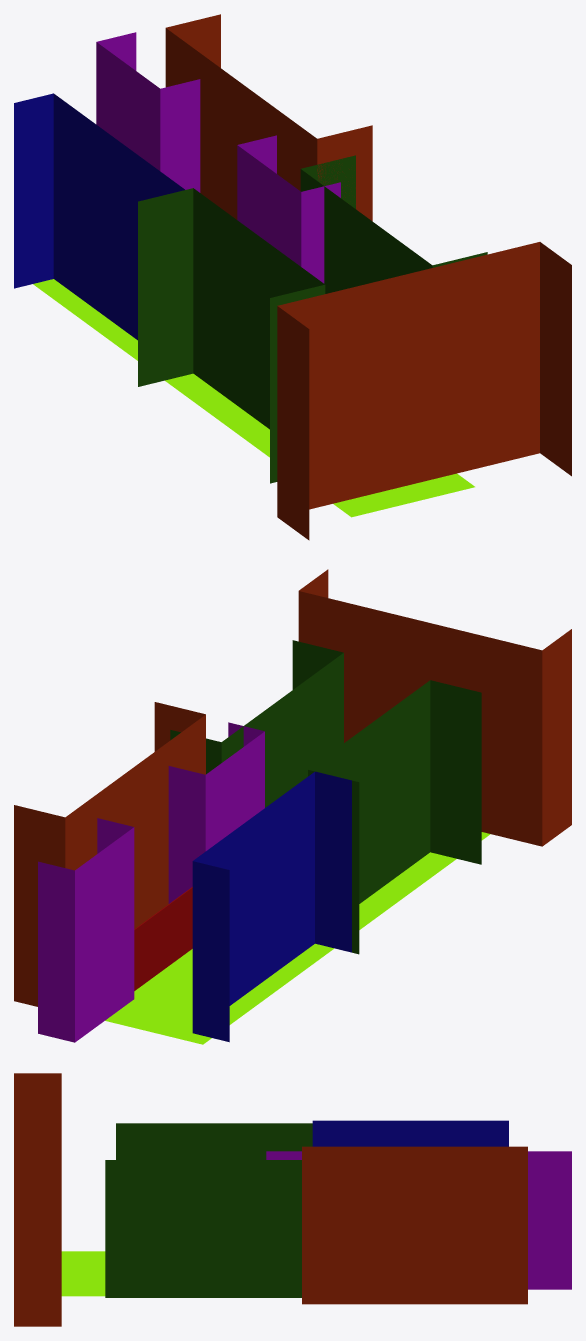
Rendered from Ruelle.FBX.
The picture shows the model from 3 angles, top to bottom: view 1: azimuth 30°, elevation 25°; view 2: azimuth 150°, elevation 25°; view 3: azimuth 270°, elevation 25°; orthographic projection. The views are drawn at different scales.
Parts seen in each view (by area): view 1: Ruelle; view 2: Ruelle; view 3: Ruelle.
Boxes of the visible parts, <box> form: Ruelle: <box>14,14,571,540</box>; Ruelle: <box>14,569,571,1044</box>; Ruelle: <box>14,1073,571,1326</box>.
Size of the model in its own units: 1254 by 965 by 3094.
